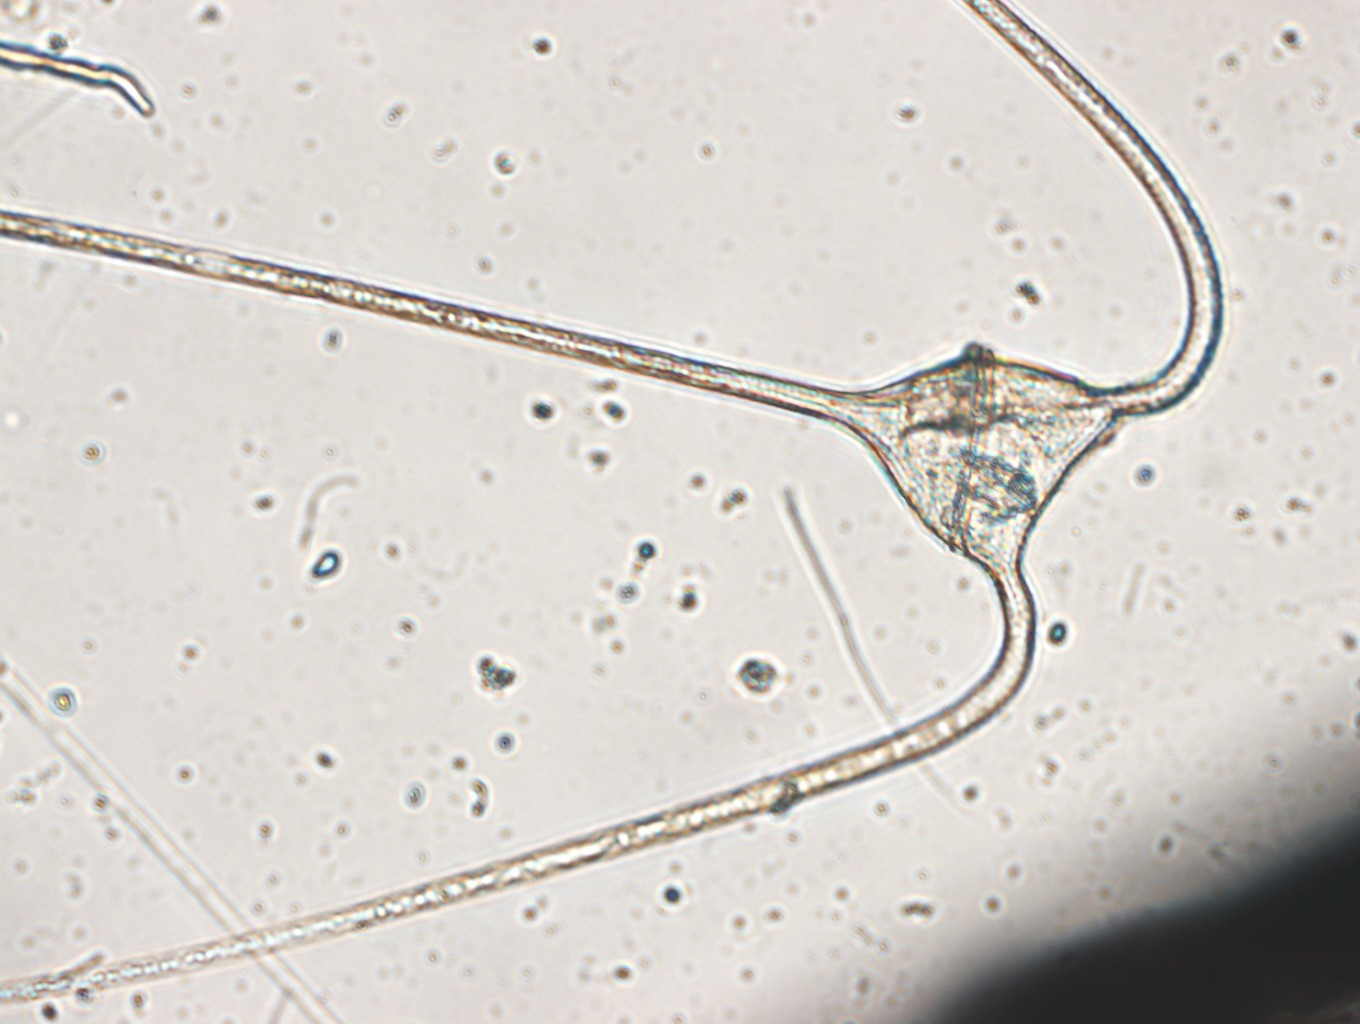ceratium trichoceros: (1, 1, 1222, 1002)
